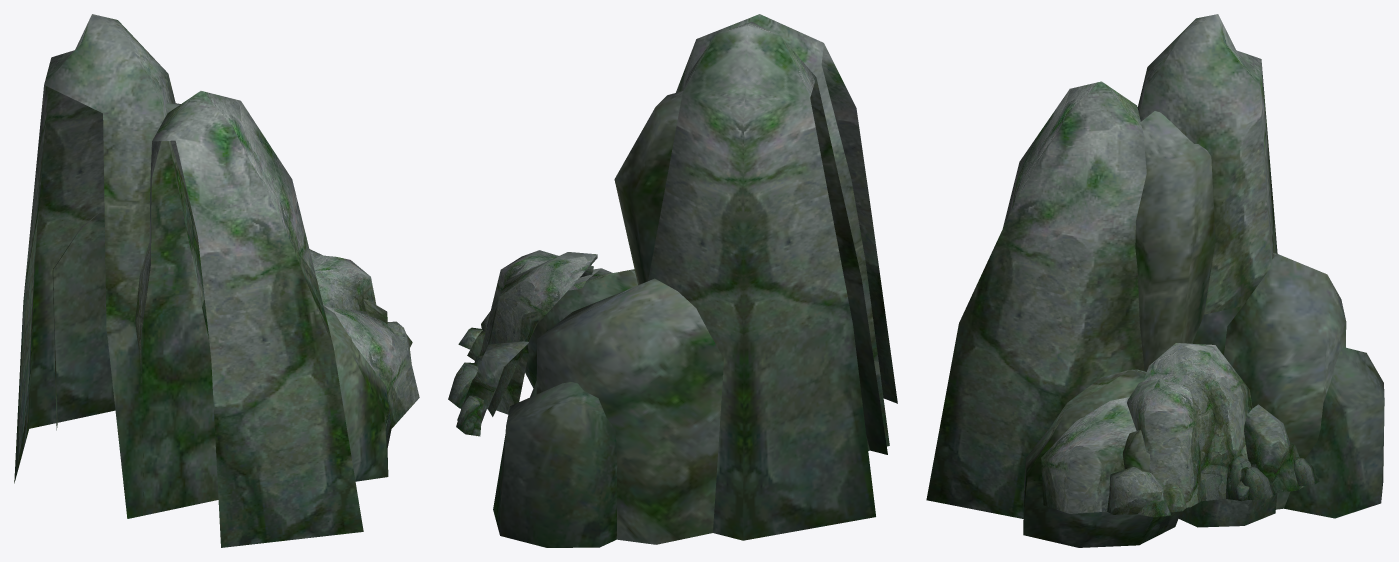
Rendered from SC001Jshanshi_17.FBX.
3 views of the same model, side by side, from view 1: azimuth 30°, elevation 25°; view 2: azimuth 150°, elevation 25°; view 3: azimuth 270°, elevation 25° (orthographic). The views are drawn at different scales.
Visible parts, largest first — view 1: SC001Jshanshi_17; view 2: SC001Jshanshi_17; view 3: SC001Jshanshi_17.
Boxes of the visible parts, x1=… form: SC001Jshanshi_17: x1=14, y1=14, x2=419, y2=547; SC001Jshanshi_17: x1=448, y1=14, x2=897, y2=547; SC001Jshanshi_17: x1=926, y1=14, x2=1384, y2=547.
Bounding box in the file's own units: 9.25 × 10.07 × 9.77.
